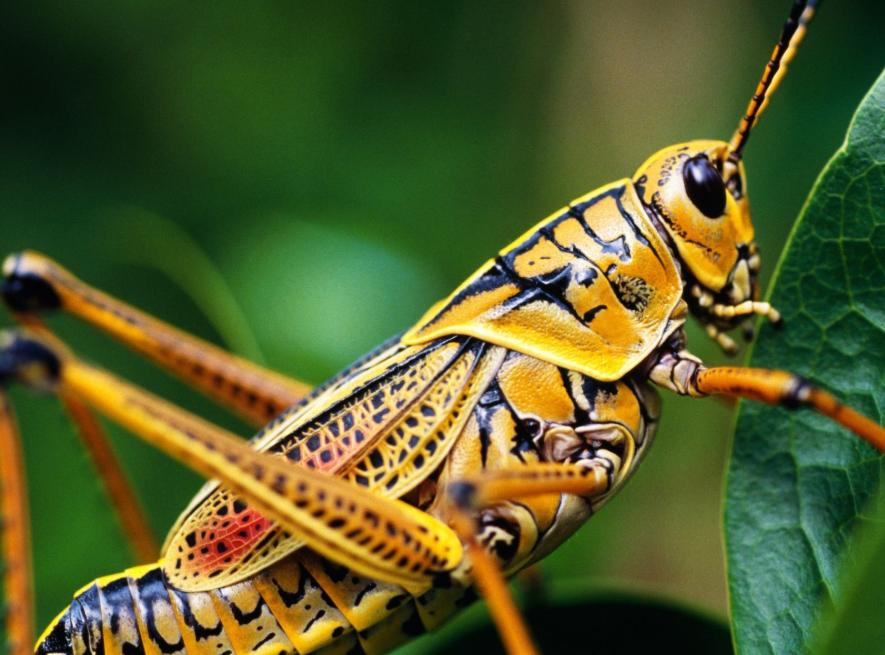huangchong: (49, 124, 781, 655)
